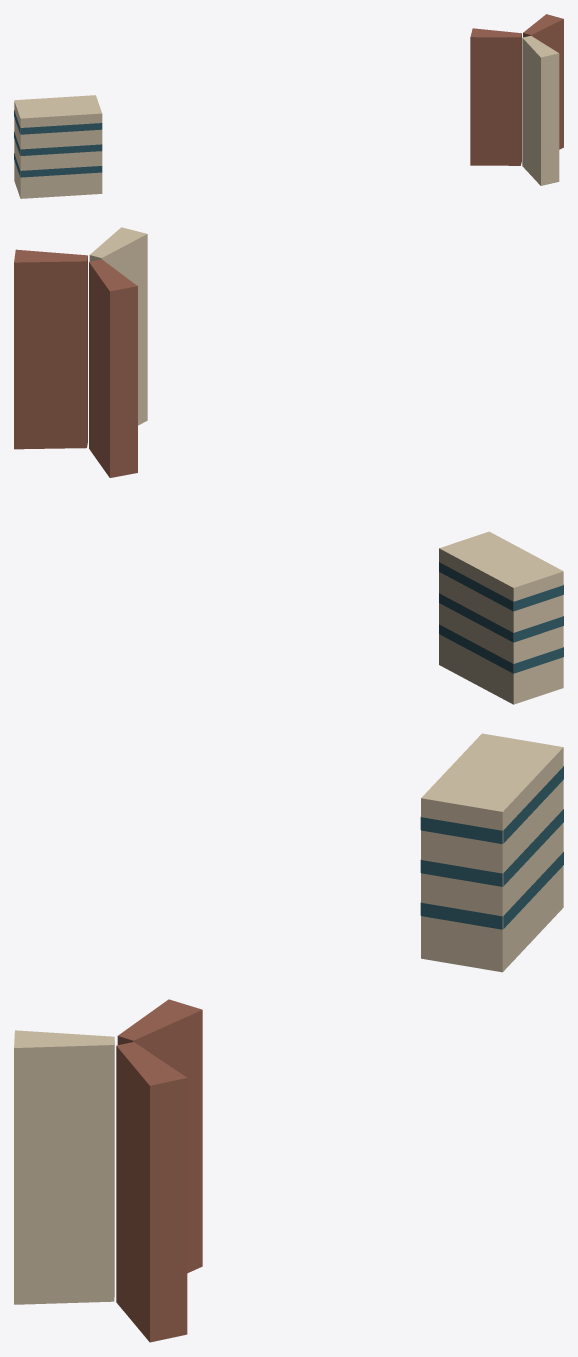
File: city_-2_2.glb
3 renders of one model, top to bottom at view 1: azimuth 30°, elevation 25°; view 2: azimuth 150°, elevation 25°; view 3: azimuth 270°, elevation 25°, orthographic. The views are drawn at different scales.
Visible parts, largest first — view 1: city_-2_2; view 2: city_-2_2; view 3: city_-2_2.
Part boxes in pixels (x1,y1,x2,y2): city_-2_2: [14, 14, 563, 198]; city_-2_2: [14, 227, 563, 704]; city_-2_2: [14, 733, 563, 1342].
Size of the model in its own units: 89.99 by 24 by 46.6.
